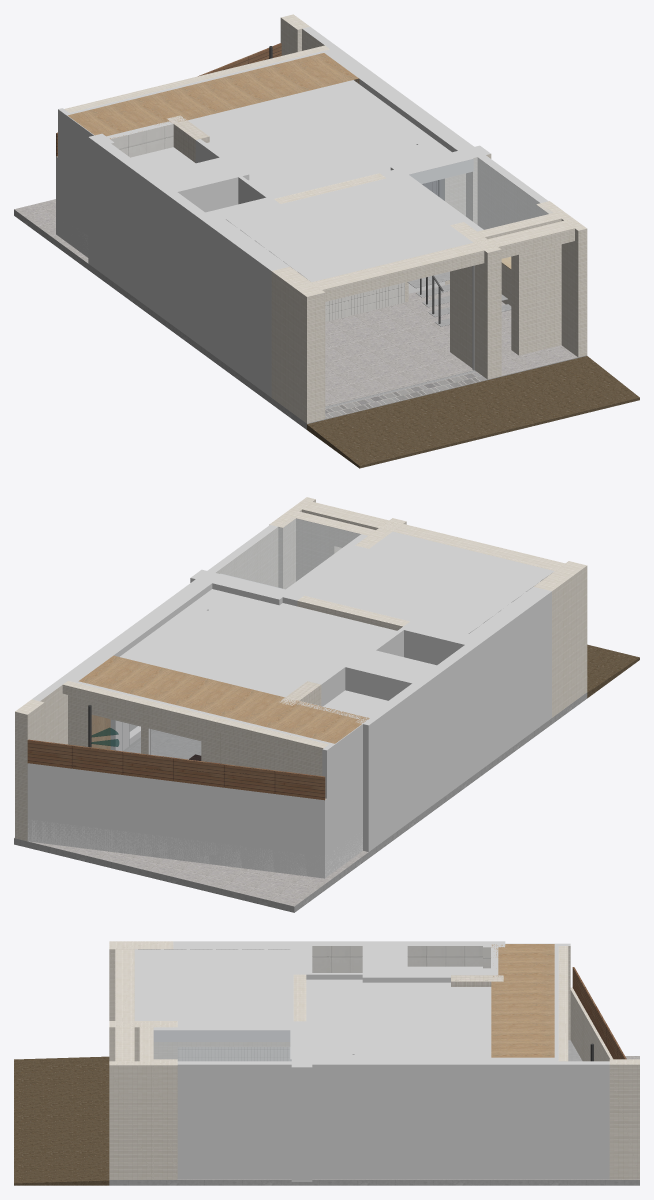
Rendered from 1150618_1f_shell_50k.glb.
3 views of the same model, one above another, from view 1: azimuth 30°, elevation 25°; view 2: azimuth 150°, elevation 25°; view 3: azimuth 270°, elevation 25° (orthographic). The views are drawn at different scales.
Parts seen in each view (by area): view 1: Geom3D_ (×6), Geom3D (×6); view 2: Geom3D_ (×6), Geom3D (×3), Geom3D_外部結束; view 3: Geom3D_ (×6), Geom3D (×5).
Boxes of the visible parts, left/top/right/bottom form: Geom3D_ (×6): left=14, top=14, right=639, bottom=468; Geom3D (×6): left=14, top=53, right=577, bottom=418; Geom3D_ (×6): left=14, top=497, right=639, bottom=912; Geom3D (×3): left=14, top=655, right=369, bottom=906; Geom3D_外部結束: left=27, top=719, right=362, bottom=878; Geom3D_ (×6): left=14, top=941, right=639, bottom=1185; Geom3D (×5): left=177, top=944, right=639, bottom=1179.
Size of the model in its own units: 9.37 by 4.18 by 19.68.
38 materials, 21 textured.
